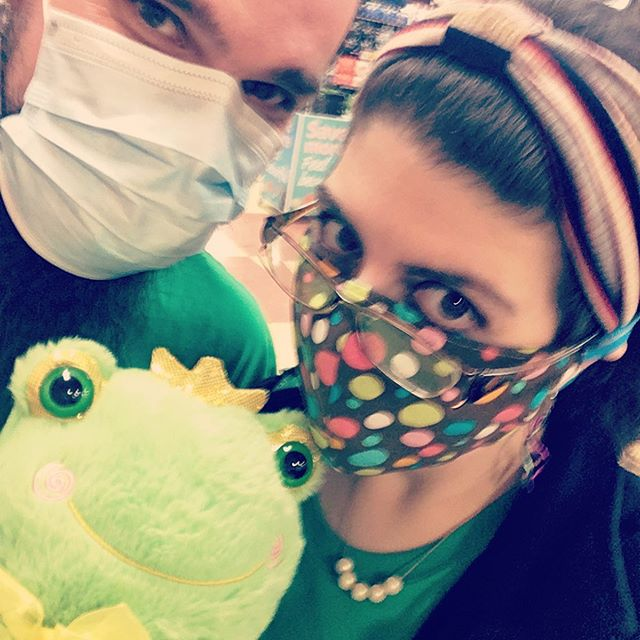homemade: (285, 279, 535, 478)
surgical: (1, 1, 289, 281)
